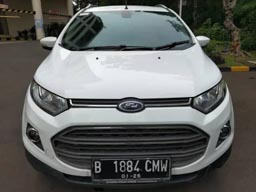plat: (91, 157, 169, 171)
